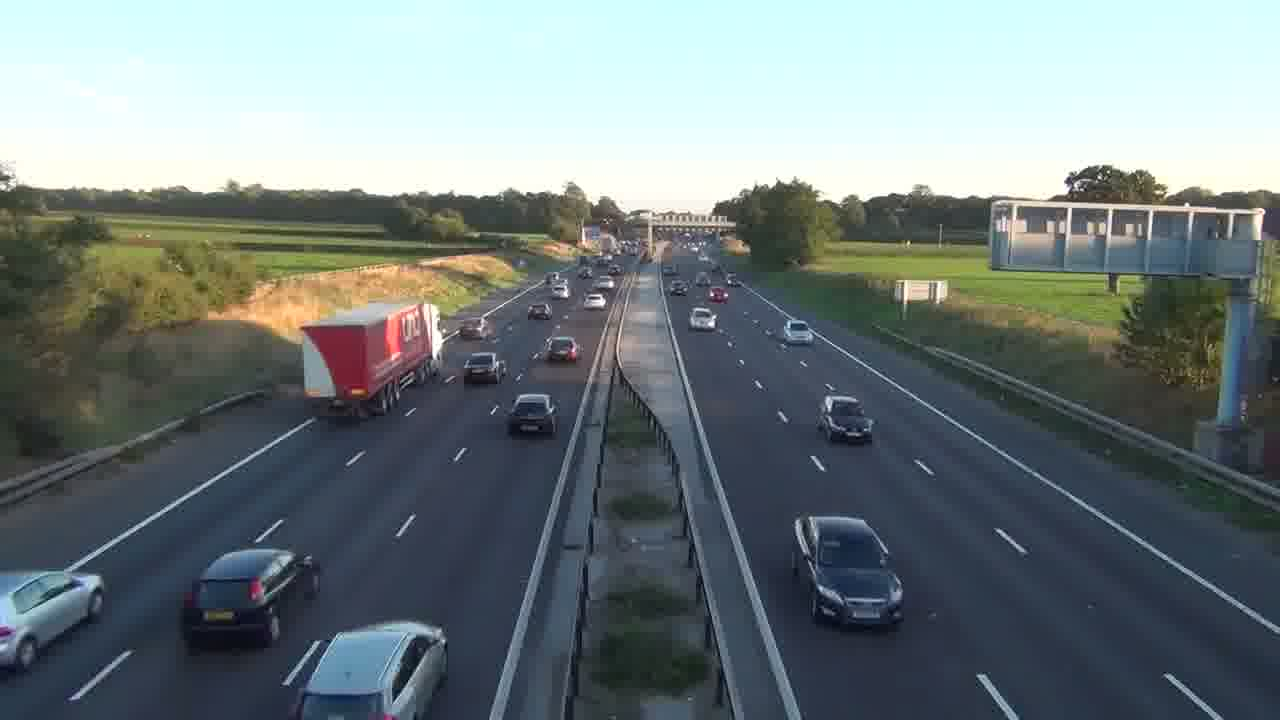car: (284, 620, 449, 718), (181, 546, 321, 649), (792, 513, 905, 630), (0, 569, 105, 672), (817, 395, 876, 443), (507, 392, 559, 436), (462, 352, 503, 385), (545, 335, 581, 363), (782, 318, 814, 347), (689, 307, 717, 331), (583, 291, 606, 308)
truck: (300, 301, 442, 417)
